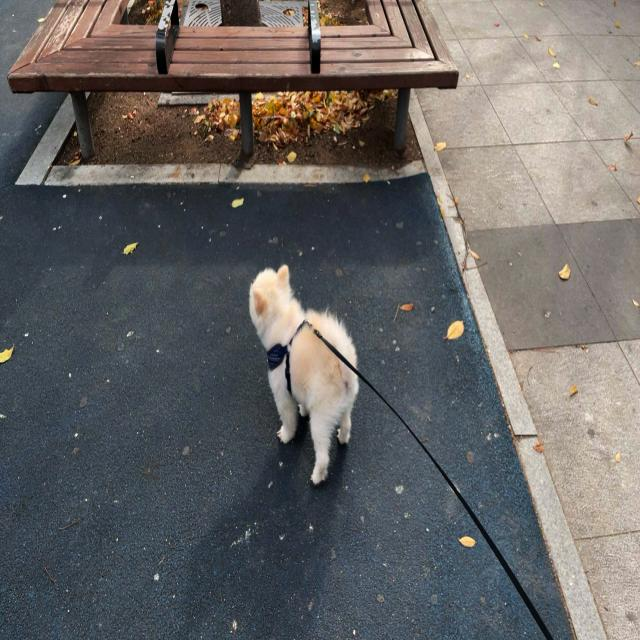Dog: (248, 264, 358, 484)
